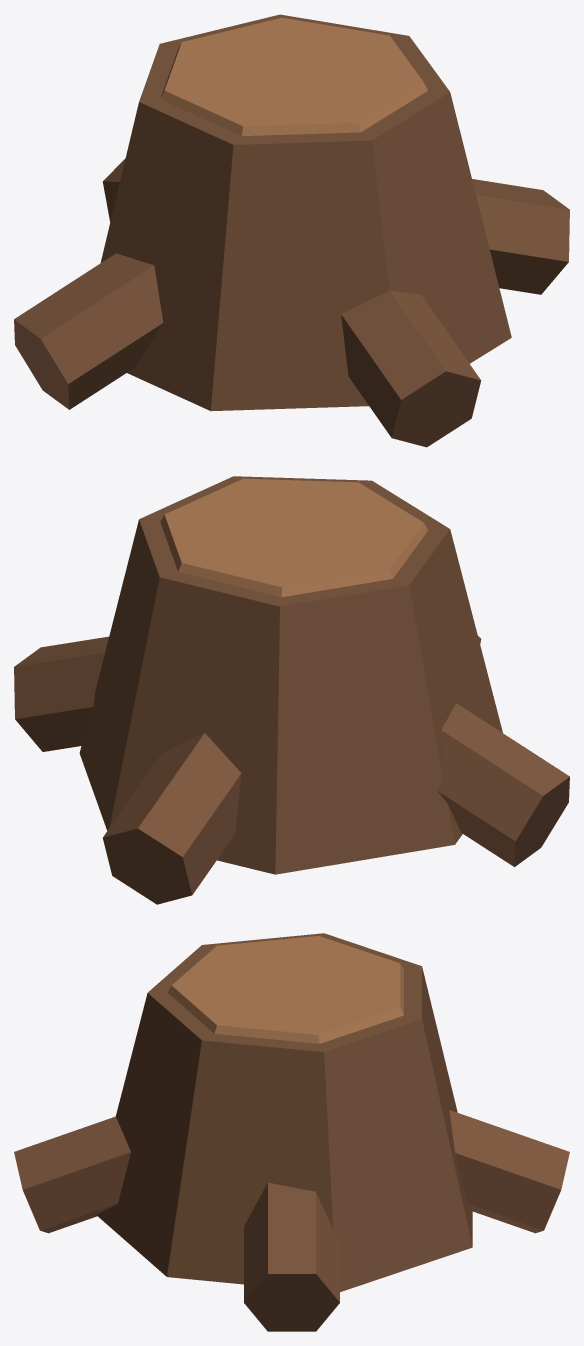
Rendered from parez.glb.
The picture shows the model from 3 angles, top to bottom: view 1: azimuth 30°, elevation 25°; view 2: azimuth 150°, elevation 25°; view 3: azimuth 270°, elevation 25°; orthographic projection. The views are drawn at different scales.
Visible parts, largest first — view 1: material_785239, material_ad7950; view 2: material_785239, material_ad7950; view 3: material_785239, material_ad7950.
Boxes of the visible parts, x1=… form: material_785239: x1=14, y1=14, x2=569, y2=447; material_ad7950: x1=160, y1=17, x2=427, y2=135; material_785239: x1=14, y1=476, x2=569, y2=904; material_ad7950: x1=160, y1=478, x2=427, y2=597; material_785239: x1=14, y1=933, x2=569, y2=1331; material_ad7950: x1=167, y1=936, x2=403, y2=1043.
Size of the model in its own units: 1.37 by 0.682 by 1.39.
